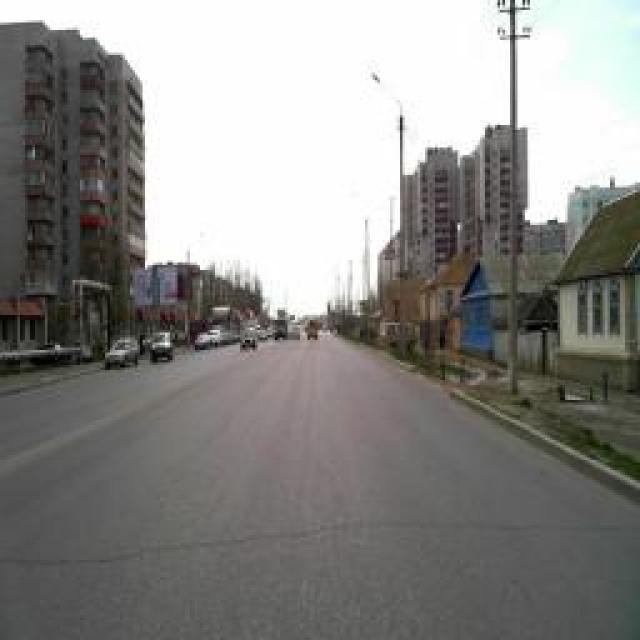sign: (384, 238, 398, 262)
